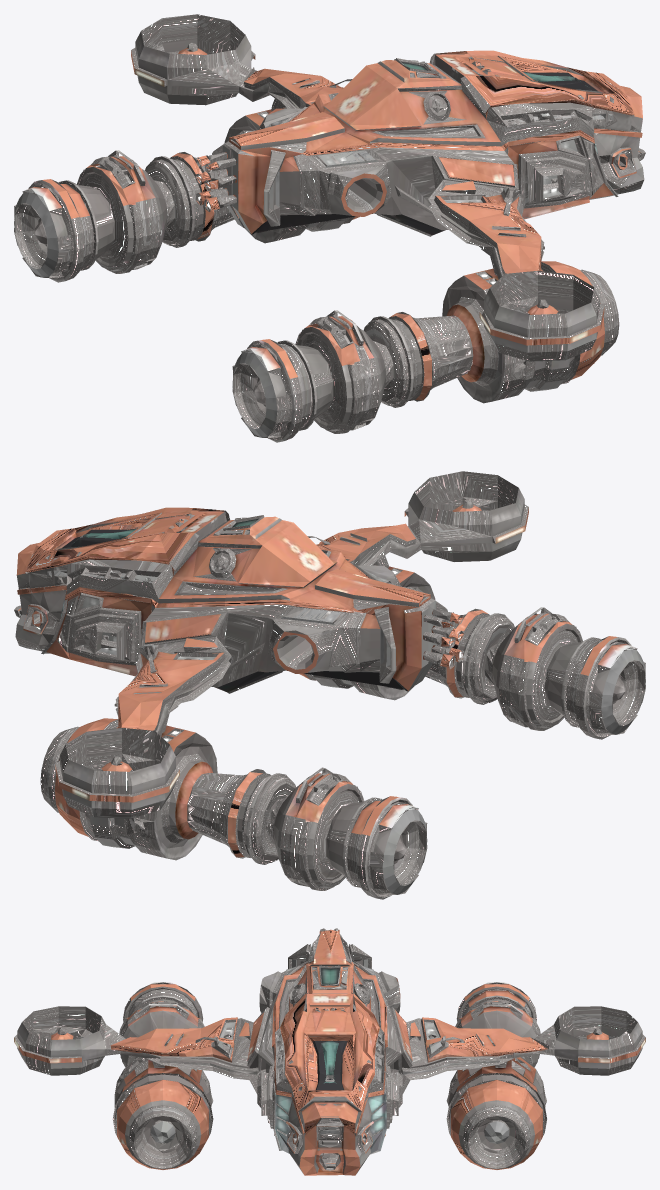
The model's file is ship.glb.
3 views of the same model, one above another, from view 1: azimuth 30°, elevation 25°; view 2: azimuth 150°, elevation 25°; view 3: azimuth 270°, elevation 25° (orthographic). The views are drawn at different scales.
Parts seen in each view (by area): view 1: defaultMaterial (×5); view 2: defaultMaterial (×5); view 3: defaultMaterial (×5).
Boxes of the visible parts, box(x1,y1,x2,y2) form: defaultMaterial (×5): box(14, 14, 645, 442); defaultMaterial (×5): box(14, 471, 645, 899); defaultMaterial (×5): box(14, 928, 645, 1175).
Bounding box in the file's own units: 0.702 × 0.3313 × 1.
Materials: 6 (6 with a texture image).
